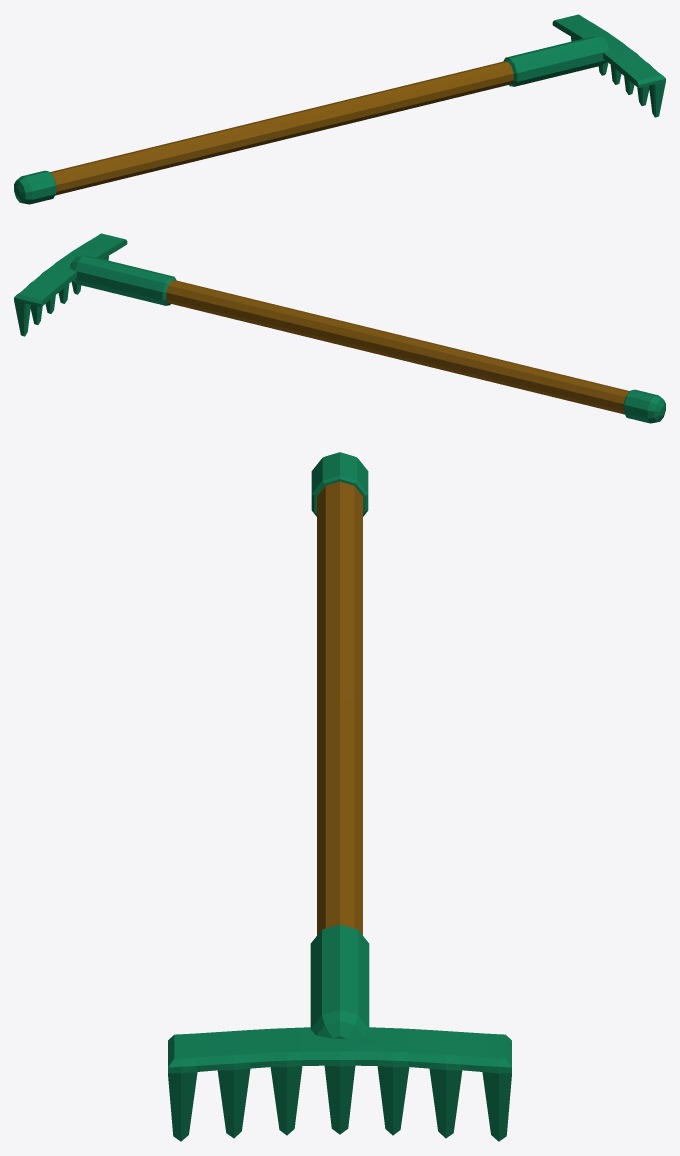
File: RastrilloRoto.fbx
3 views of the same model, one above another, from view 1: azimuth 30°, elevation 25°; view 2: azimuth 150°, elevation 25°; view 3: azimuth 270°, elevation 25° (orthographic). The views are drawn at different scales.
Parts seen in each view (by area): view 1: AbajoCuerpoRoto, PuntaRota, ArribaCuerpoRoto; view 2: AbajoCuerpoRoto, PuntaRota, ArribaCuerpoRoto; view 3: PuntaRota, AbajoCuerpoRoto, ArribaCuerpoRoto.
Part boxes in pixels (left/top/right/bottom): AbajoCuerpoRoto: left=14, top=119, right=285, bottom=204; PuntaRota: left=503, top=14, right=665, bottom=117; ArribaCuerpoRoto: left=266, top=61, right=513, bottom=138; AbajoCuerpoRoto: left=392, top=337, right=665, bottom=423; PuntaRota: left=14, top=233, right=176, bottom=336; ArribaCuerpoRoto: left=166, top=280, right=408, bottom=357; PuntaRota: left=168, top=924, right=511, bottom=1141; AbajoCuerpoRoto: left=311, top=452, right=368, bottom=720; ArribaCuerpoRoto: left=317, top=698, right=362, bottom=935.
Bounding box in the file's own units: 75.93 × 6.69 × 18.67.
